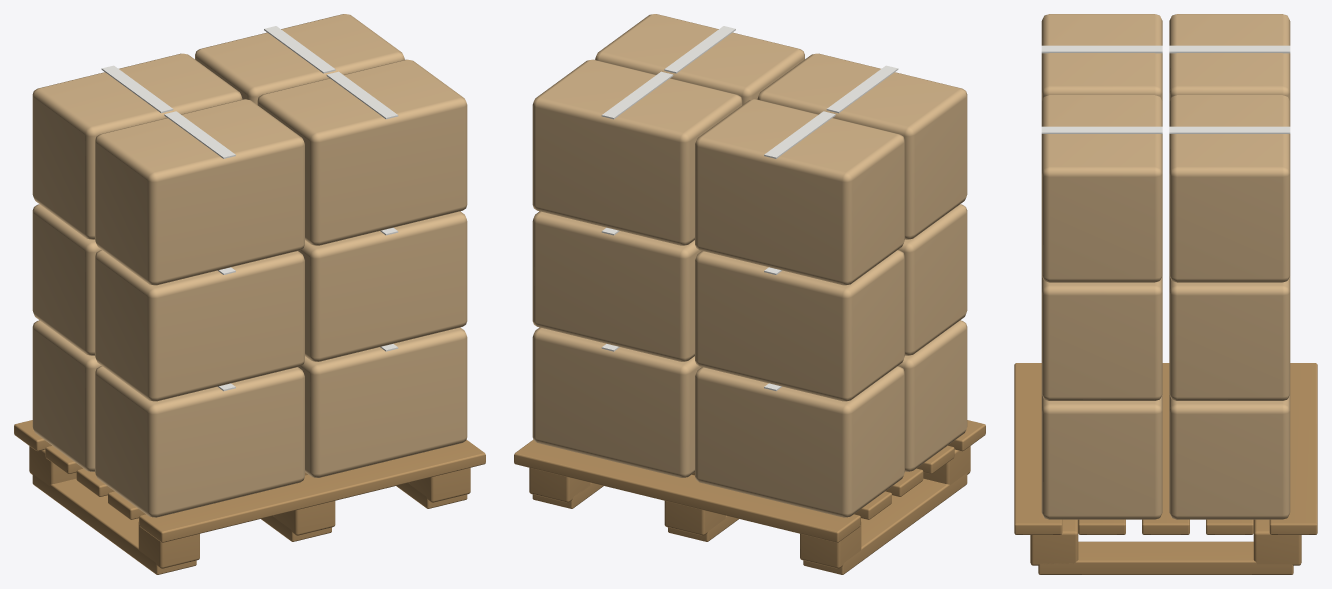
Rendered from Pallet_Loaded.fbx.
3 renders of one model, left to right at view 1: azimuth 30°, elevation 25°; view 2: azimuth 150°, elevation 25°; view 3: azimuth 270°, elevation 25°, orthographic. The views are drawn at different scales.
Parts seen in each view (by area): view 1: Pallet_Loaded_Cardboard, Pallet_Loaded_Wood, Pallet_Loaded_White; view 2: Pallet_Loaded_Cardboard, Pallet_Loaded_Wood, Pallet_Loaded_White; view 3: Pallet_Loaded_Cardboard, Pallet_Loaded_Wood, Pallet_Loaded_White.
Boxes of the visible parts, bbox=[...] form: Pallet_Loaded_Cardboard: bbox=[32, 14, 467, 517]; Pallet_Loaded_Wood: bbox=[14, 420, 485, 574]; Pallet_Loaded_White: bbox=[101, 26, 398, 391]; Pallet_Loaded_Cardboard: bbox=[532, 14, 967, 517]; Pallet_Loaded_Wood: bbox=[514, 420, 985, 574]; Pallet_Loaded_White: bbox=[601, 26, 898, 391]; Pallet_Loaded_Cardboard: bbox=[1041, 14, 1290, 519]; Pallet_Loaded_Wood: bbox=[1014, 363, 1317, 574]; Pallet_Loaded_White: bbox=[1041, 45, 1290, 133].
Size of the model in its own units: 120 by 141 by 95.
